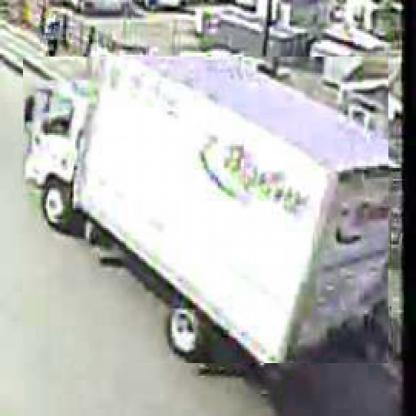truck: (24, 57, 391, 366)
